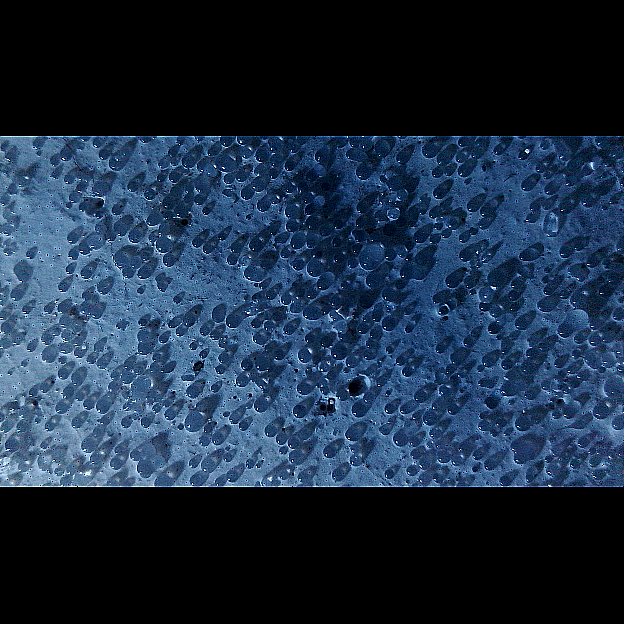GrassBeadSeg: (13, 176, 604, 477), (59, 151, 555, 486), (2, 172, 551, 400), (125, 181, 587, 447), (61, 175, 574, 411), (44, 255, 580, 468), (152, 201, 550, 487), (5, 168, 546, 372), (153, 203, 539, 484), (120, 208, 570, 445), (160, 174, 572, 431), (111, 182, 498, 455), (146, 166, 604, 389), (62, 181, 472, 428), (144, 135, 469, 444), (71, 201, 552, 402), (55, 142, 550, 335), (48, 173, 515, 377), (146, 165, 552, 393), (128, 144, 438, 427), (261, 165, 606, 418), (79, 140, 608, 304), (204, 147, 533, 404), (70, 185, 556, 358), (30, 236, 420, 448), (3, 153, 286, 445), (13, 289, 439, 482), (149, 200, 480, 445), (154, 174, 441, 438), (197, 206, 475, 472), (60, 203, 484, 373), (49, 326, 494, 487), (131, 276, 504, 467), (294, 257, 599, 483), (76, 244, 517, 394), (3, 196, 253, 459), (76, 284, 497, 437), (67, 250, 584, 371), (138, 249, 485, 419), (52, 317, 396, 486), (37, 210, 261, 468), (248, 179, 478, 430), (232, 188, 513, 387), (55, 342, 601, 442), (5, 206, 317, 375), (156, 261, 421, 459), (54, 276, 549, 381), (210, 250, 471, 445), (23, 251, 502, 356), (135, 238, 342, 478), (455, 136, 607, 452), (73, 227, 475, 339), (426, 214, 599, 467), (68, 350, 449, 463), (188, 337, 469, 485), (438, 234, 603, 480), (86, 353, 431, 469), (282, 205, 550, 352), (183, 274, 500, 398), (48, 170, 351, 298), (109, 205, 357, 360), (84, 183, 295, 364), (59, 313, 502, 399), (160, 171, 315, 408), (119, 268, 584, 343), (419, 143, 511, 487), (38, 335, 445, 411), (19, 306, 539, 364), (172, 187, 346, 359), (20, 317, 348, 401), (105, 185, 376, 286), (23, 302, 490, 360), (464, 201, 558, 477), (245, 239, 530, 330), (287, 356, 513, 464), (127, 408, 576, 462), (22, 306, 406, 366), (213, 159, 333, 348), (88, 229, 225, 381), (17, 388, 267, 471), (43, 150, 144, 355), (56, 149, 125, 444), (399, 203, 532, 346), (69, 411, 588, 447), (202, 377, 386, 473), (475, 138, 615, 259), (55, 289, 316, 353), (41, 306, 392, 353), (382, 254, 492, 395), (47, 157, 118, 373), (73, 206, 187, 340), (71, 374, 498, 409), (184, 383, 620, 417), (63, 182, 133, 390), (35, 135, 171, 242), (166, 246, 344, 327), (330, 252, 404, 441), (363, 228, 479, 348), (391, 365, 560, 446), (78, 421, 491, 453), (376, 230, 464, 379), (7, 290, 296, 335), (81, 400, 441, 436), (37, 383, 284, 435), (38, 184, 109, 363), (200, 331, 373, 402), (441, 275, 528, 415), (182, 311, 327, 393), (266, 425, 526, 470), (381, 249, 477, 368), (294, 382, 609, 418), (174, 422, 525, 453), (200, 207, 329, 291), (324, 232, 427, 334), (349, 372, 530, 429), (261, 151, 330, 300), (214, 155, 446, 199), (91, 175, 318, 219), (507, 287, 623, 371), (375, 304, 507, 377), (227, 208, 441, 253), (279, 404, 408, 478), (99, 358, 239, 425), (261, 221, 299, 438), (412, 414, 530, 483), (328, 238, 599, 268), (248, 312, 355, 387), (360, 206, 490, 266), (238, 360, 330, 442), (94, 334, 317, 367), (152, 185, 260, 253), (0, 276, 100, 348), (186, 366, 414, 397), (2, 388, 108, 452), (145, 159, 233, 234), (333, 141, 423, 214), (378, 317, 601, 346), (222, 454, 441, 483), (327, 345, 451, 396), (203, 402, 286, 478), (99, 135, 176, 214), (520, 151, 618, 213), (1, 322, 129, 369), (494, 417, 622, 463), (18, 410, 107, 475), (303, 272, 503, 300), (304, 261, 492, 290), (510, 281, 622, 328), (191, 238, 296, 288), (218, 196, 289, 267), (411, 390, 531, 431), (270, 182, 342, 247), (441, 317, 500, 393), (262, 399, 336, 458), (74, 184, 124, 266), (241, 267, 269, 413), (344, 150, 447, 189), (456, 146, 488, 266), (353, 217, 440, 261), (502, 358, 563, 419), (387, 417, 443, 483), (91, 139, 188, 174), (240, 143, 306, 191), (559, 242, 614, 298), (0, 390, 52, 448), (250, 294, 333, 328), (378, 404, 416, 478), (342, 202, 398, 252), (531, 447, 614, 480), (143, 154, 193, 208), (219, 135, 367, 153), (290, 404, 360, 441), (156, 313, 239, 343), (231, 438, 302, 472), (115, 273, 150, 341), (188, 324, 223, 392), (432, 338, 513, 367), (66, 193, 81, 346), (377, 198, 457, 223), (430, 139, 479, 178), (97, 268, 170, 293), (478, 355, 517, 397), (378, 289, 494, 302), (548, 357, 580, 402), (252, 282, 282, 330), (57, 267, 92, 308), (6, 221, 114, 234), (339, 303, 389, 331), (395, 151, 448, 177), (3, 140, 41, 175), (570, 347, 622, 371), (120, 328, 167, 354), (64, 259, 138, 274), (118, 409, 176, 428), (33, 417, 51, 475), (94, 397, 138, 419), (2, 169, 12, 255), (65, 175, 89, 209), (231, 165, 276, 182), (186, 453, 233, 467), (78, 306, 99, 319), (32, 143, 40, 148)
